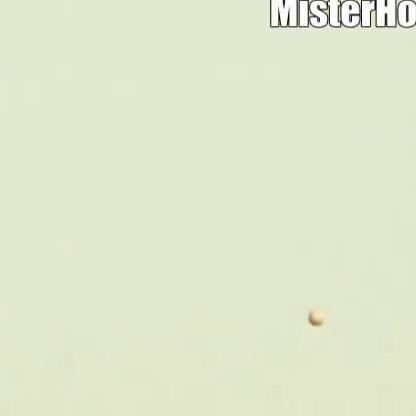golfball: (304, 306, 326, 325)
